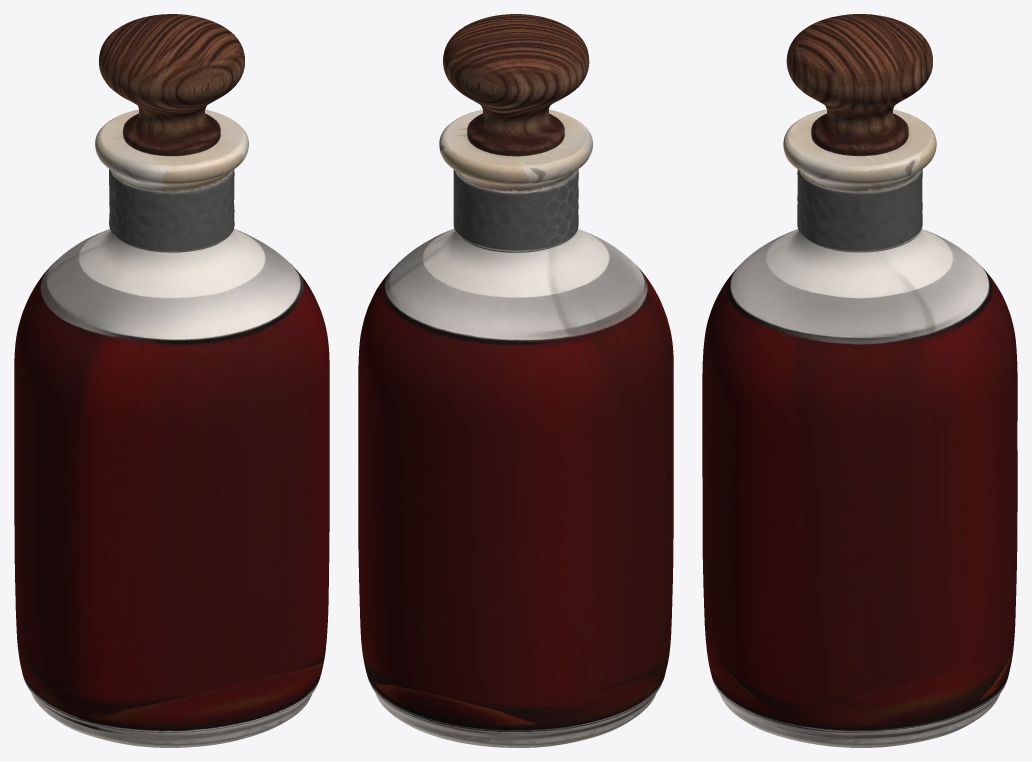
Rendered from bottle-extra.glb.
The picture shows the model from 3 angles, left to right: view 1: azimuth 30°, elevation 25°; view 2: azimuth 150°, elevation 25°; view 3: azimuth 270°, elevation 25°; orthographic projection.
Size of the model in its own units: 0.8146 by 1.9 by 0.8146.
Materials: 1 (1 with a texture image).
